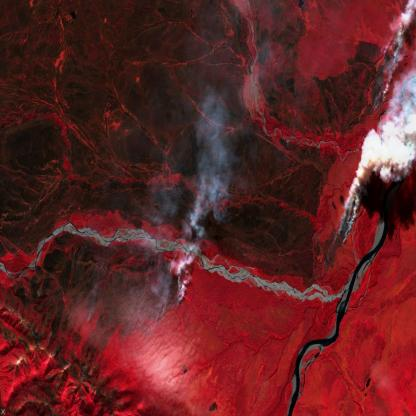fire: (130, 238, 195, 336), (321, 156, 383, 258), (360, 31, 407, 116)
